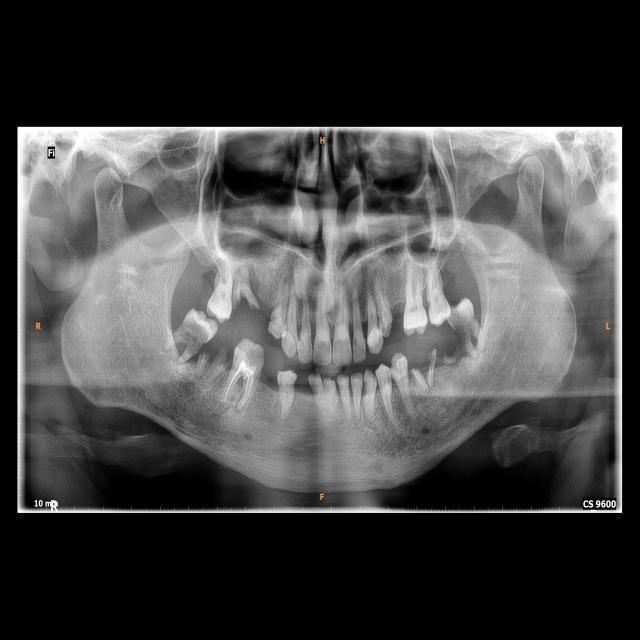kanal-tedavisi: (232, 363, 257, 409)
kirik: (446, 313, 486, 357), (229, 282, 264, 325), (233, 337, 268, 379), (441, 337, 474, 377), (410, 345, 441, 386), (376, 302, 404, 346), (206, 341, 233, 383), (193, 337, 213, 380)
